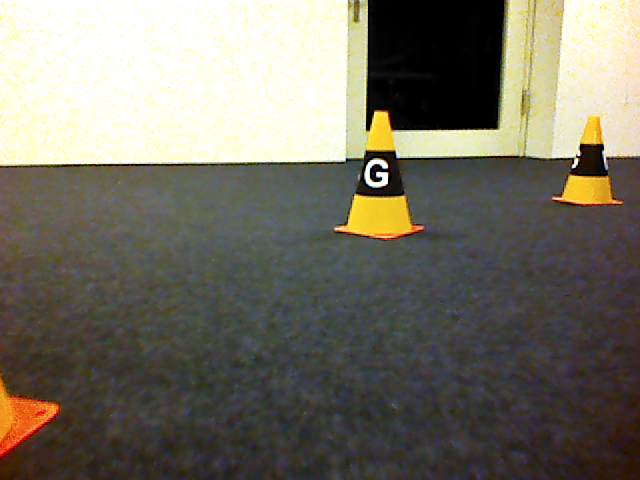yellowcone: (334, 109, 428, 243), (550, 114, 625, 208)
